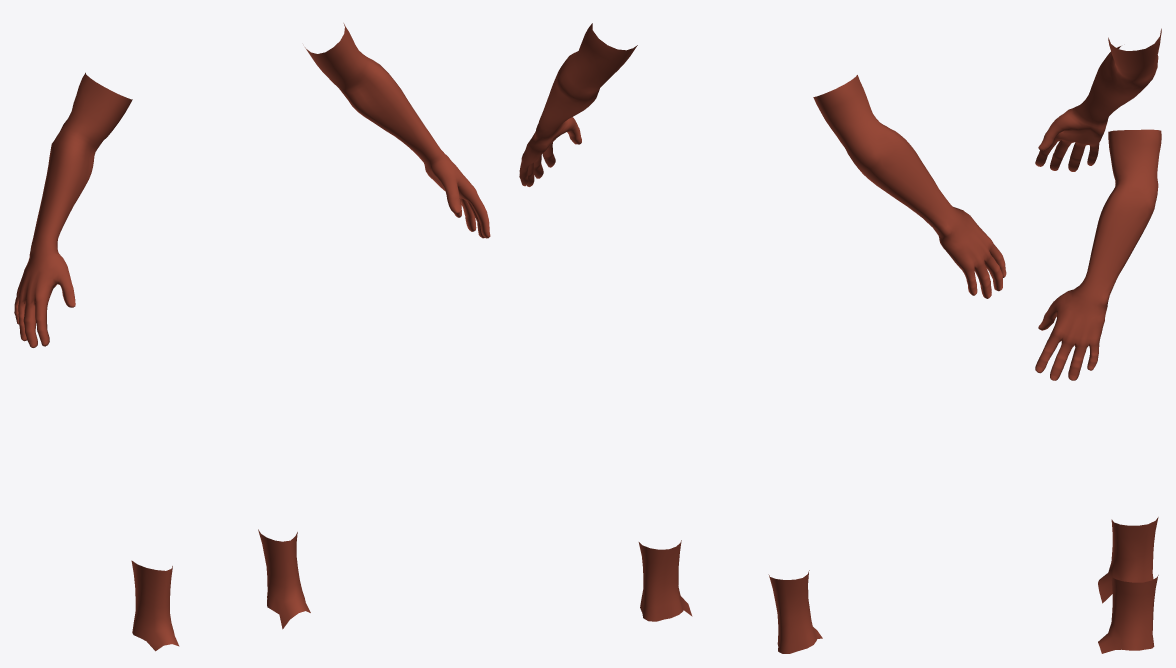
Rendered from skin2.glb.
3 views of the same model, side by side, from view 1: azimuth 30°, elevation 25°; view 2: azimuth 150°, elevation 25°; view 3: azimuth 270°, elevation 25° (orthographic). The views are drawn at different scales.
Visible parts, largest first — view 1: Wolf3D_Body; view 2: Wolf3D_Body; view 3: Wolf3D_Body.
Part boxes in pixels (x1,y1,x2,y2): Wolf3D_Body: (14,23,490,651); Wolf3D_Body: (519,23,1006,653); Wolf3D_Body: (1035,28,1161,653).
Bounding box in the file's own units: 1.06 × 1.28 × 0.2641.
Materials: 1 (1 with a texture image).
